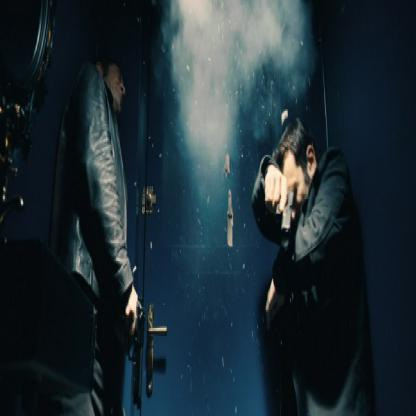Guns: (113, 287, 146, 414), (270, 178, 298, 256)
